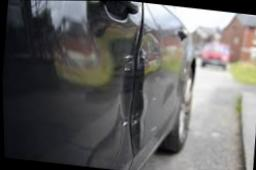Door: (133, 47, 149, 158), (121, 52, 134, 158)
